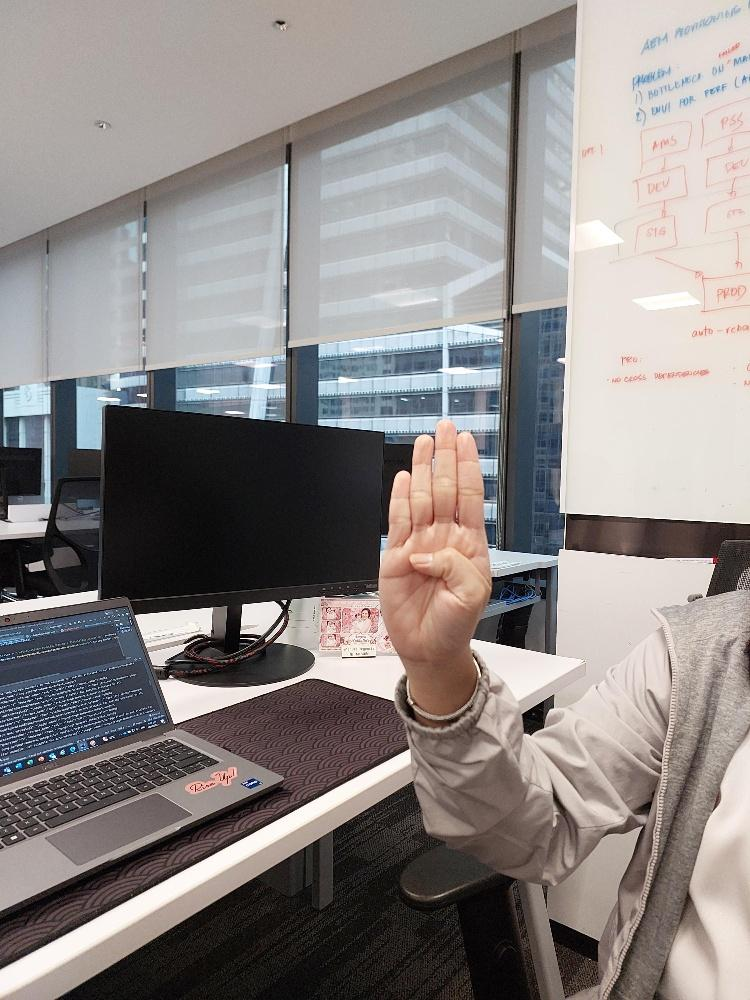b: (376, 416, 492, 660)
